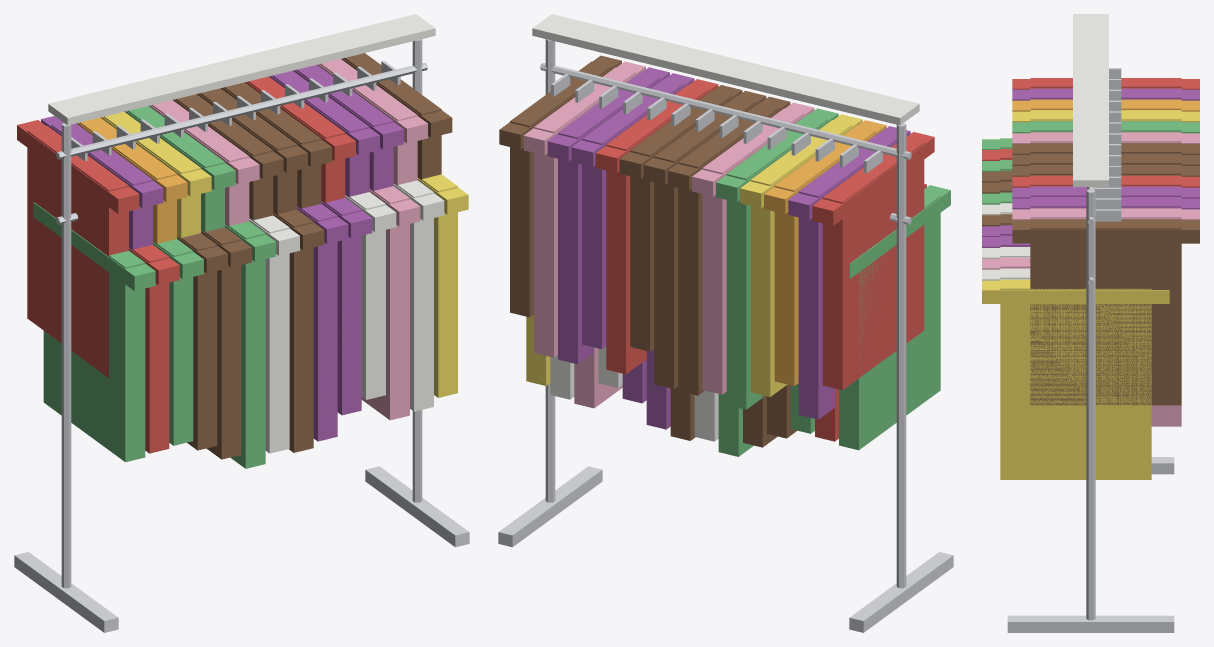
File: ST_ClothesRack.glb
The picture shows the model from 3 angles, left to right: view 1: azimuth 30°, elevation 25°; view 2: azimuth 150°, elevation 25°; view 3: azimuth 270°, elevation 25°; orthographic projection. The views are drawn at different scales.
Visible parts, largest first — view 1: Rack; view 2: Rack; view 3: Rack.
Boxes of the visible parts, left/top/right/bottom form: Rack: left=14, top=14, right=469, bottom=632; Rack: left=498, top=14, right=953, bottom=632; Rack: left=982, top=14, right=1199, bottom=632.
Bounding box in the file's own units: 1.3 × 1.65 × 0.72.
